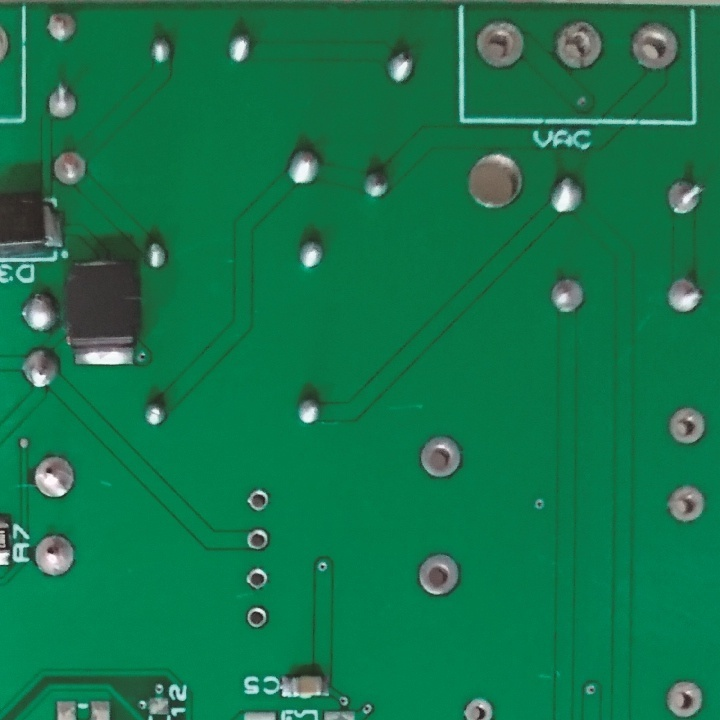F: (474, 17, 527, 71), (550, 19, 604, 72), (627, 19, 679, 74), (414, 547, 460, 600), (30, 454, 79, 503), (417, 432, 467, 480), (30, 532, 78, 577), (666, 400, 709, 450), (663, 175, 706, 219), (666, 483, 707, 529), (664, 274, 707, 316), (661, 675, 704, 717), (547, 272, 585, 318), (50, 149, 92, 188), (44, 81, 82, 123), (44, 9, 79, 43), (461, 692, 494, 720), (244, 486, 274, 513), (244, 528, 273, 554), (242, 603, 270, 629), (244, 566, 270, 592)
